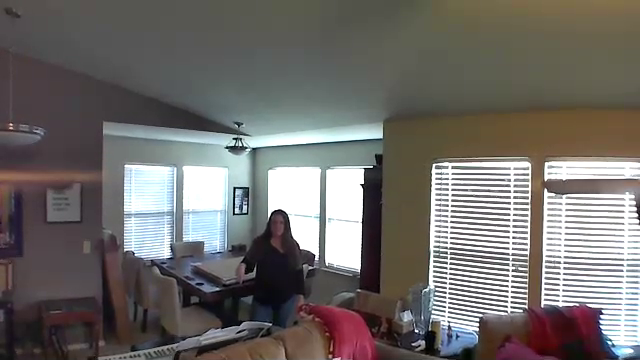down: (233, 261, 248, 287)
